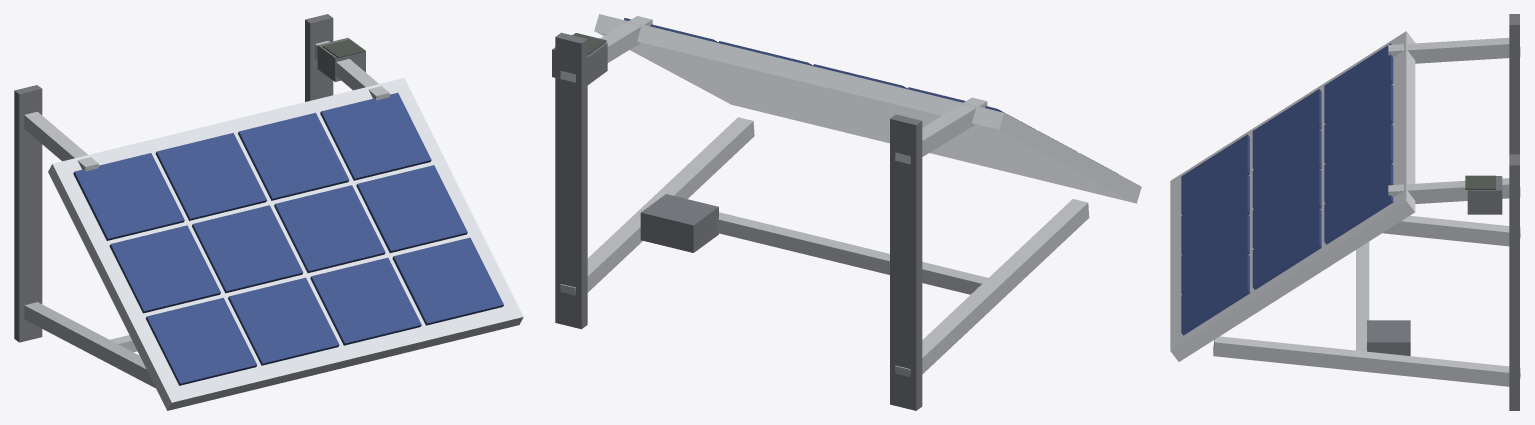
Rendered from solar.obj.
The picture shows the model from 3 angles, left to right: view 1: azimuth 30°, elevation 25°; view 2: azimuth 150°, elevation 25°; view 3: azimuth 270°, elevation 25°; orthographic projection. The views are drawn at different scales.
Size of the model in its own units: 0.92 by 0.62 by 0.8024.
